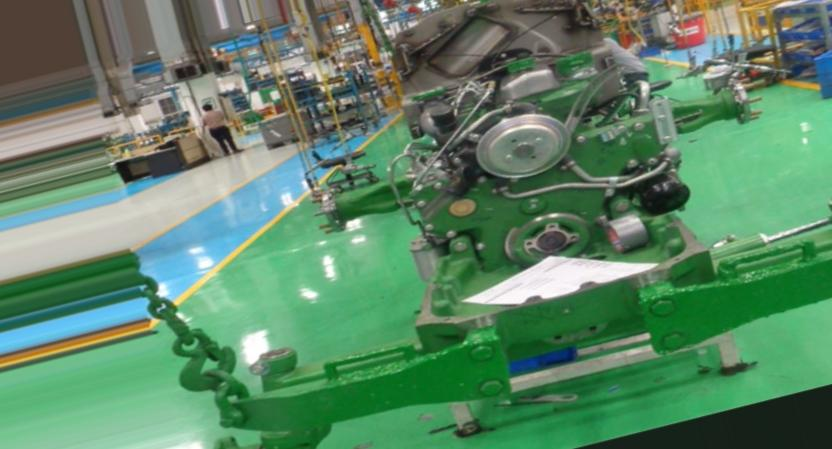engine: (234, 0, 832, 449)
